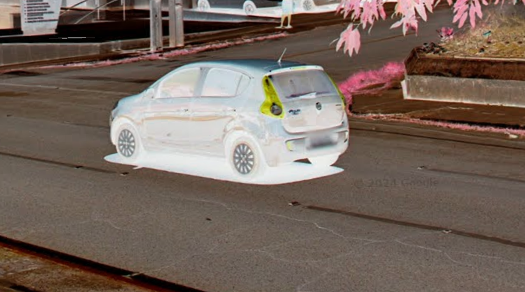car: (105, 43, 354, 189)
